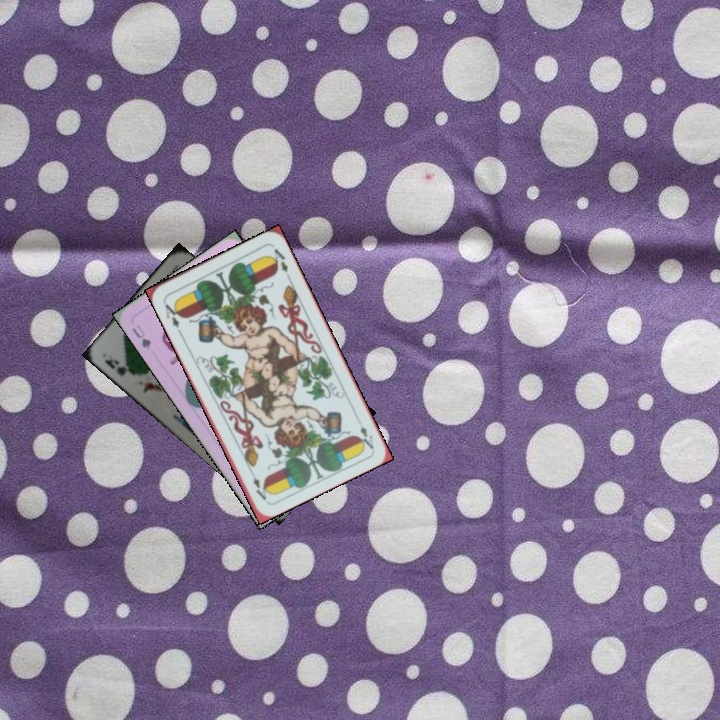EA: (159, 297, 184, 335), (352, 413, 376, 451)
GK: (100, 355, 129, 379)
GU: (128, 320, 154, 351)
